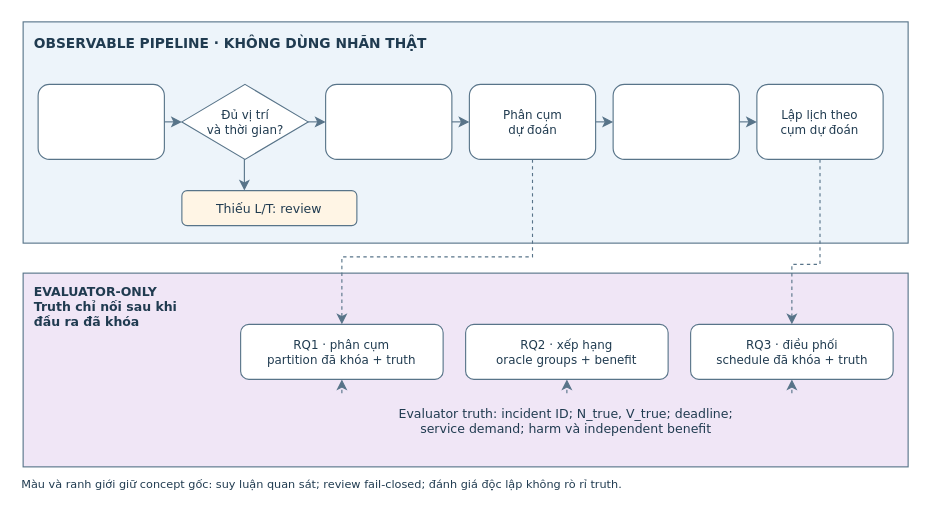
Some shapes in this 930 by 514 pixel diagram are drawn without their labels. The shapes that lost their labels are listed below. From the top down, each one's box as (x1, y1, x2, y2) in pixels, then its label:
(37, 83, 164, 159): Báo cáo hiện trường
(324, 83, 452, 159): Masked similarity graph thưa ngưỡng + k-NN
(612, 83, 739, 159): Họ bản sao xếp hạng có chặn
